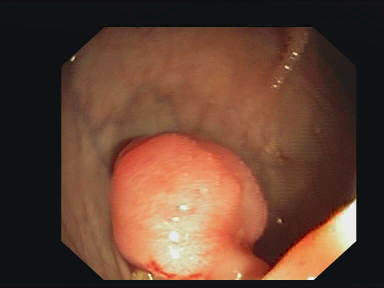polyp: (91, 115, 289, 260)
